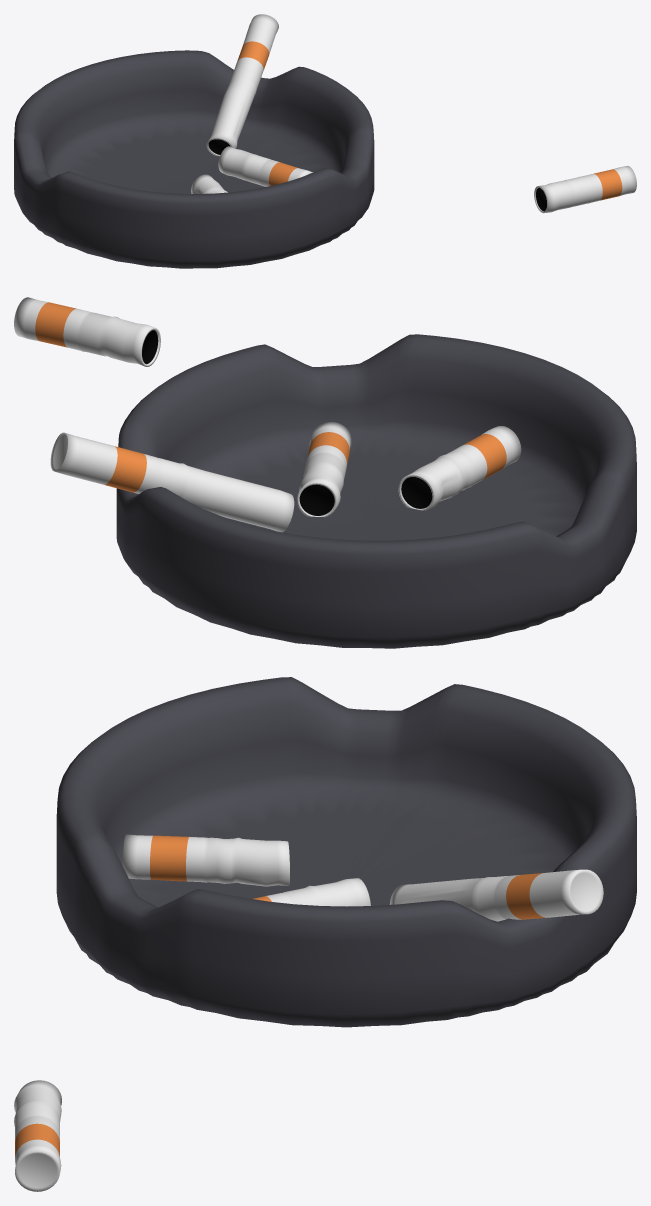
File: Cigarro e Cinzeiro.fbx
The picture shows the model from 3 angles, top to bottom: view 1: azimuth 30°, elevation 25°; view 2: azimuth 150°, elevation 25°; view 3: azimuth 270°, elevation 25°; orthographic projection. The views are drawn at different scales.
Visible parts, largest first — view 1: Cylinder, Cylinder.004, Cylinder.001, Cylinder.002, Cylinder.003; view 2: Cylinder, Cylinder.004, Cylinder.001, Cylinder.003, Cylinder.002; view 3: Cylinder, Cylinder.003, Cylinder.004, Cylinder.001, Cylinder.002.
Boxes of the visible parts, left/top/right/bottom form: Cylinder: left=14, top=50, right=374, bottom=268; Cylinder.004: left=206, top=14, right=278, bottom=156; Cylinder.001: left=534, top=166, right=636, bottom=213; Cylinder.002: left=218, top=146, right=312, bottom=186; Cylinder.003: left=191, top=174, right=227, bottom=193; Cylinder: left=116, top=334, right=636, bottom=648; Cylinder.004: left=50, top=432, right=294, bottom=532; Cylinder.001: left=14, top=297, right=160, bottom=366; Cylinder.003: left=398, top=426, right=521, bottom=510; Cylinder.002: left=297, top=422, right=351, bottom=517; Cylinder: left=56, top=677, right=636, bottom=1027; Cylinder.003: left=122, top=834, right=289, bottom=886; Cylinder.004: left=389, top=869, right=603, bottom=921; Cylinder.001: left=14, top=1080, right=61, bottom=1191; Cylinder.002: left=252, top=878, right=370, bottom=906.
Size of the model in its own units: 19.98 by 3.95 by 13.44.
